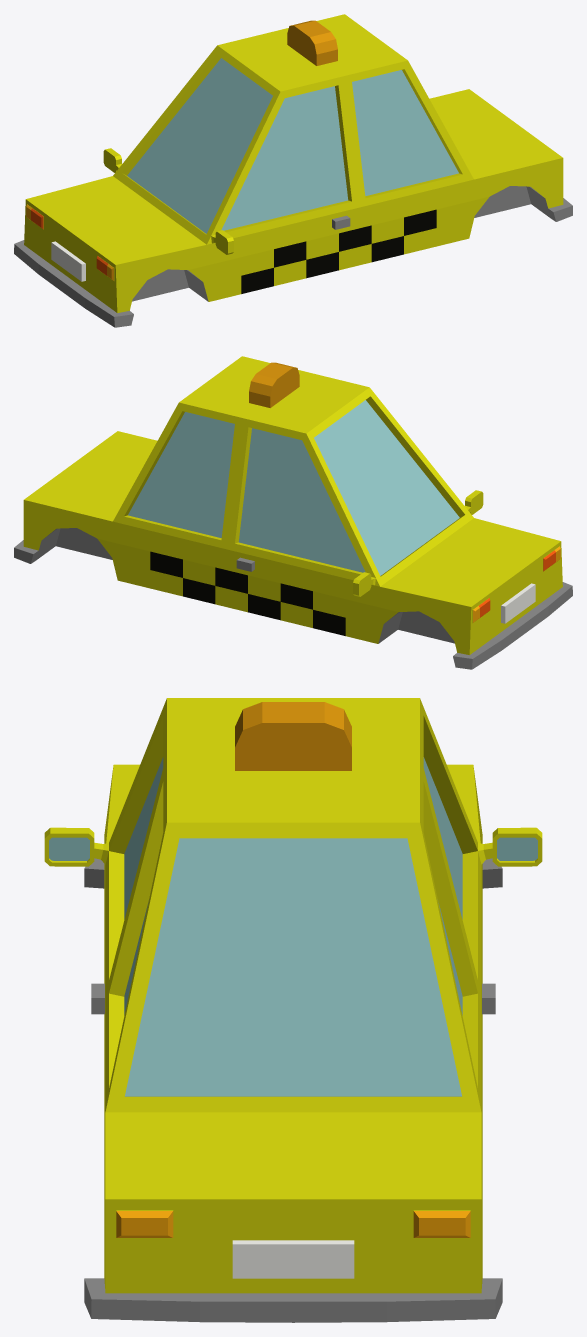
Rendered from carTaxi.fbx.
The picture shows the model from 3 angles, top to bottom: view 1: azimuth 30°, elevation 25°; view 2: azimuth 150°, elevation 25°; view 3: azimuth 270°, elevation 25°; orthographic projection. The views are drawn at different scales.
Visible parts, largest first — view 1: carTaxi; view 2: carTaxi; view 3: carTaxi.
Part boxes in pixels (bbox=[...]): carTaxi: bbox=[14, 14, 572, 327]; carTaxi: bbox=[14, 356, 572, 669]; carTaxi: bbox=[44, 698, 542, 1322].
Bounding box in the file's own units: 319 × 286 × 686.
